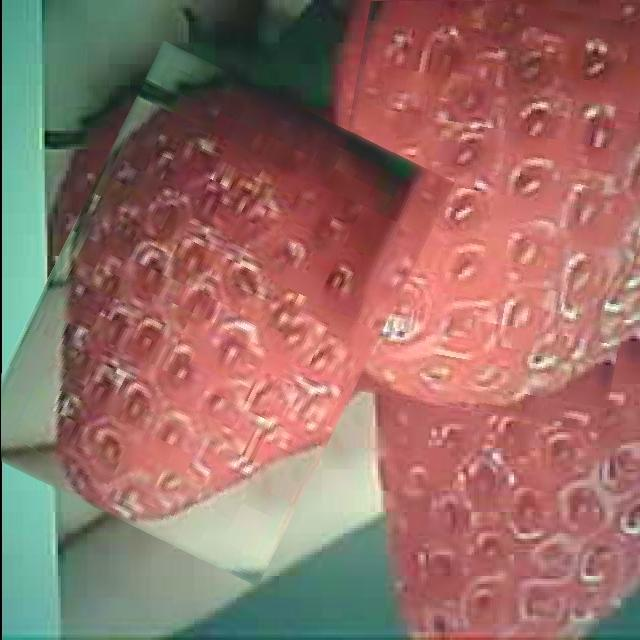strawberry: (7, 65, 413, 562), (319, 0, 640, 422)
